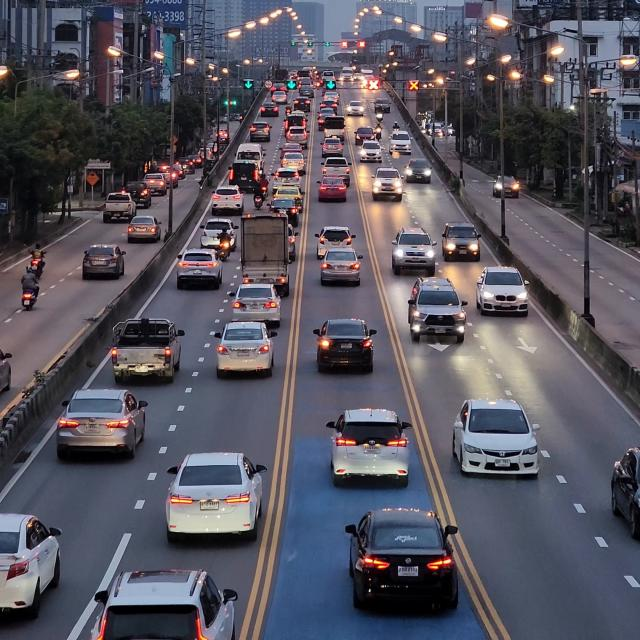Car: (343, 504, 457, 615), (87, 569, 241, 640), (159, 448, 267, 548), (450, 396, 544, 483), (325, 406, 420, 492), (55, 386, 150, 467), (108, 314, 186, 384), (212, 316, 286, 384), (237, 213, 294, 296), (404, 276, 472, 345), (308, 316, 380, 378), (477, 265, 532, 319), (228, 283, 288, 331), (389, 226, 441, 276), (176, 245, 223, 292), (319, 245, 365, 291), (444, 217, 484, 264), (82, 244, 127, 282), (316, 224, 359, 262), (198, 216, 239, 252), (128, 215, 164, 248), (374, 167, 405, 204)
